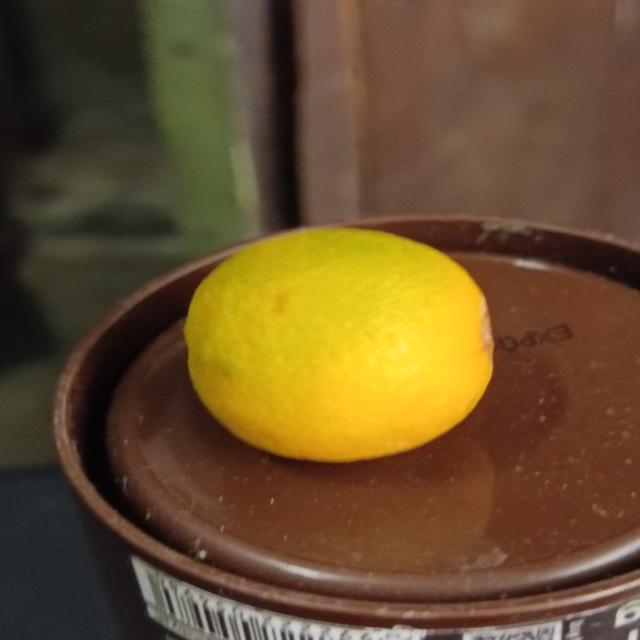greening: (178, 230, 497, 469)
